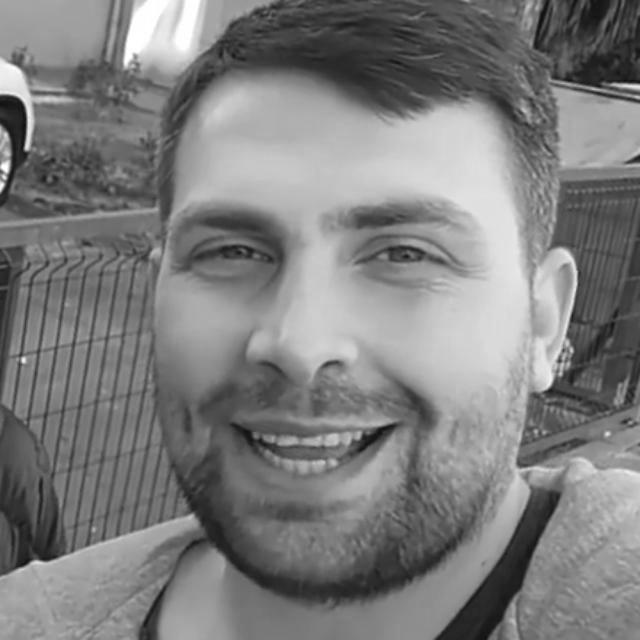real: (172, 92, 521, 585)
